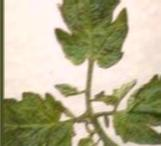Tomato leaf mosaic virus: (44, 0, 134, 71), (4, 90, 75, 146), (112, 66, 161, 146)
